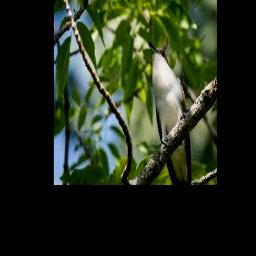Cuckoo: (147, 41, 191, 185)
